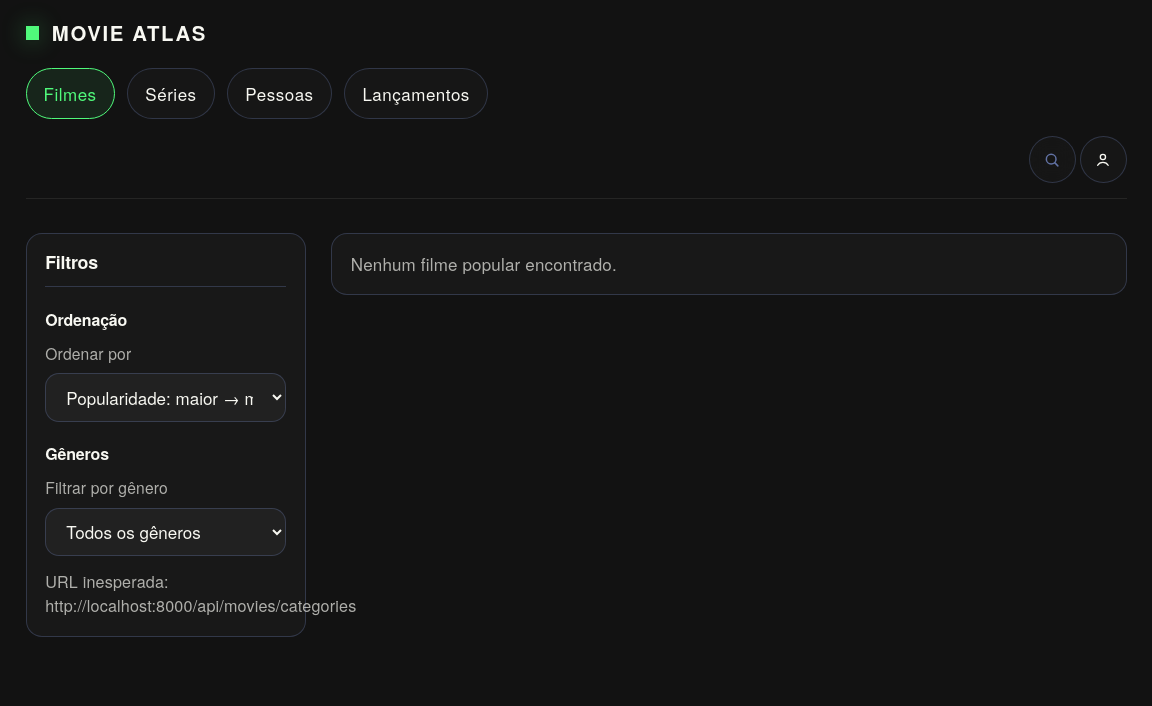
Auth and favorites flow › creates an account from the auth modal and logs the user in automatically
This screenshot has width=1152, height=706.
Click the button named "entrar ou criar conta" at (1103,160), box [1080, 136, 1127, 183]
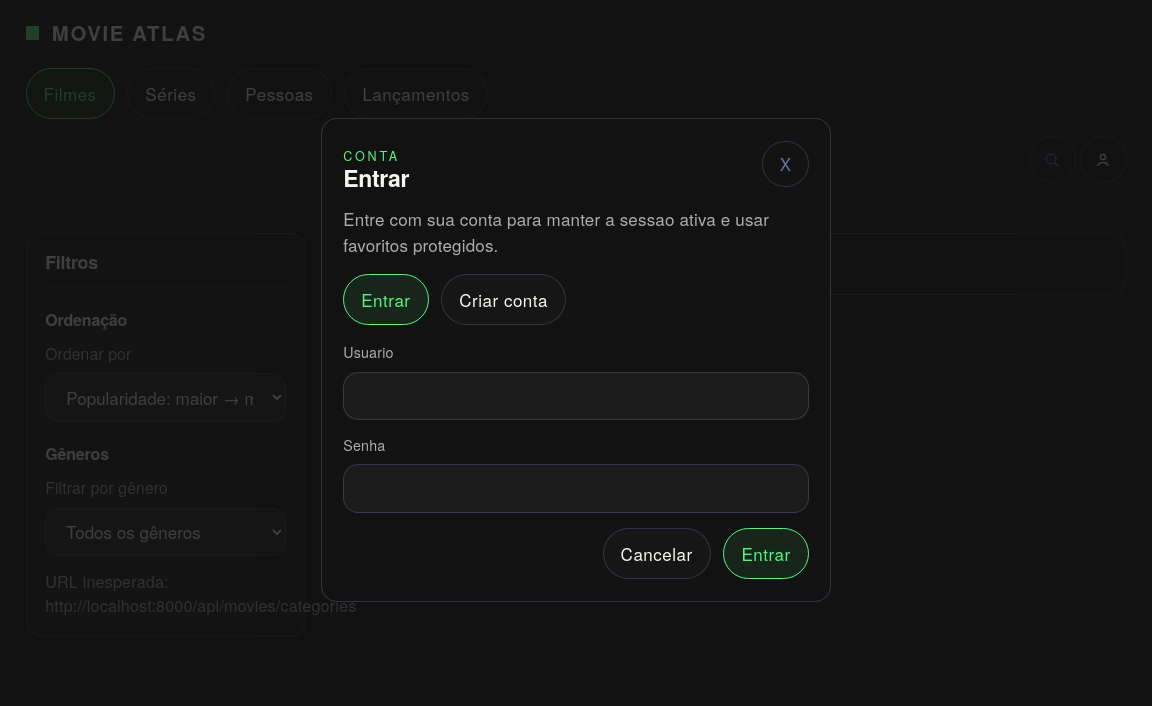
Click the tab "Criar conta" at (504,300), box [441, 274, 566, 326]
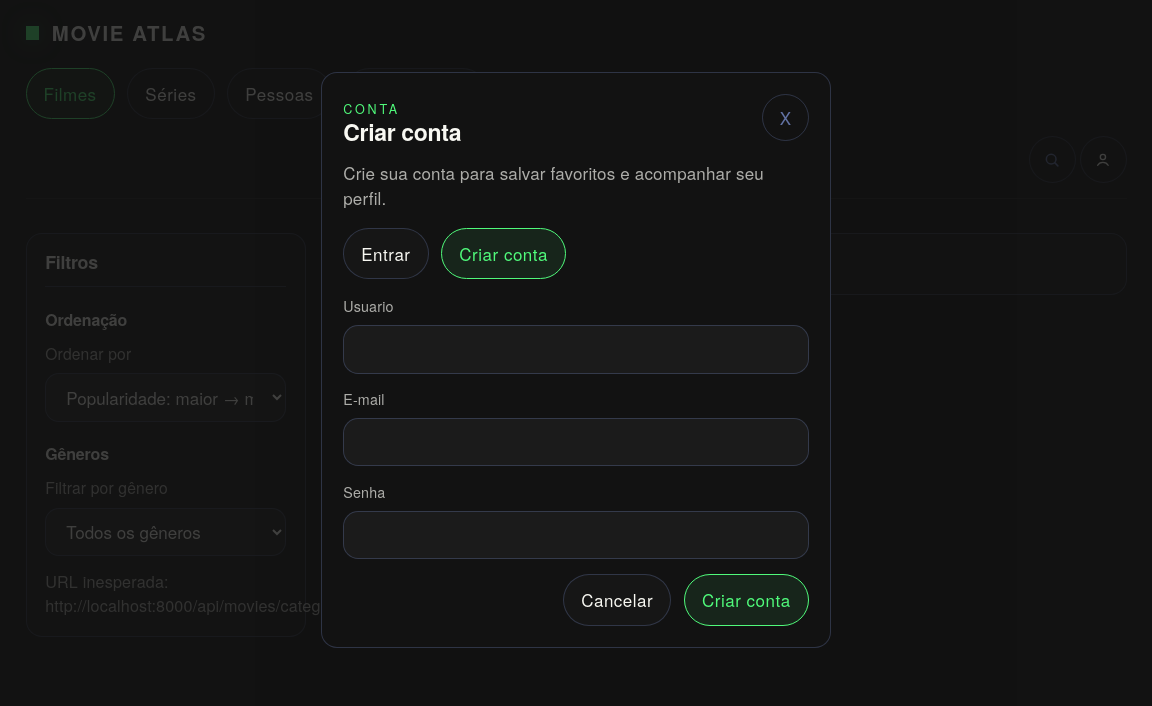
Type "newuser" into the field labelled "Usuario" at (576,349), box [343, 325, 809, 374]
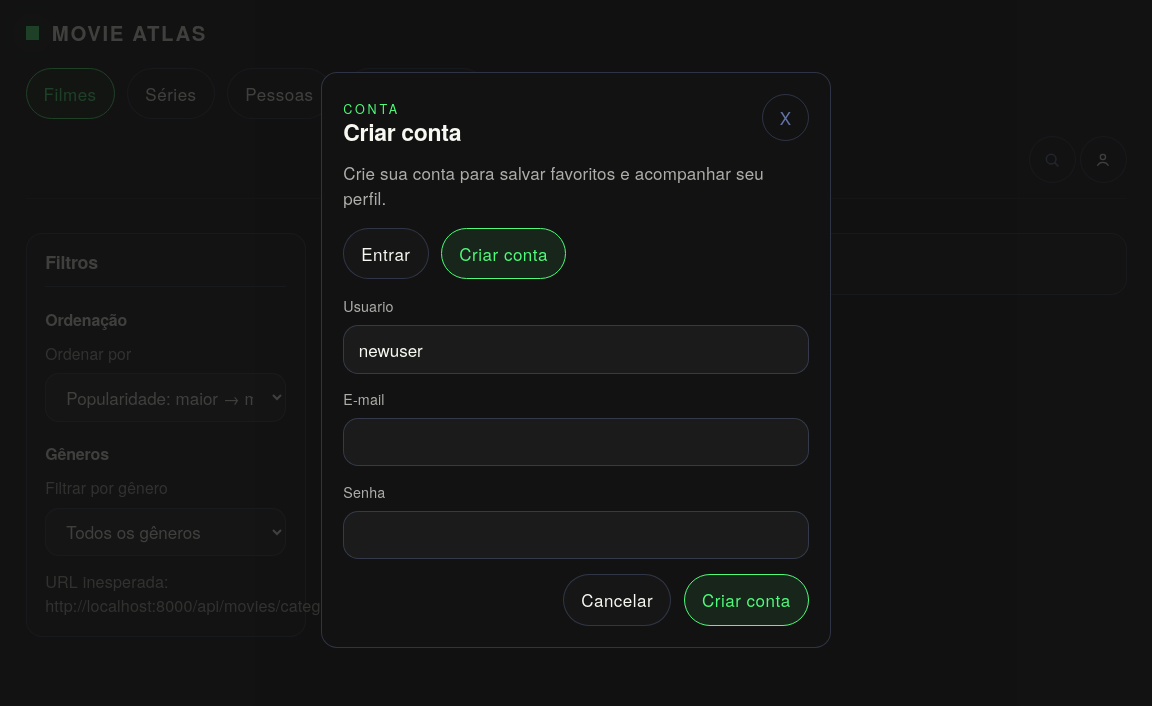
Type "newuser@example.com" into the field labelled "E-mail" at (576,442), box [343, 418, 809, 466]
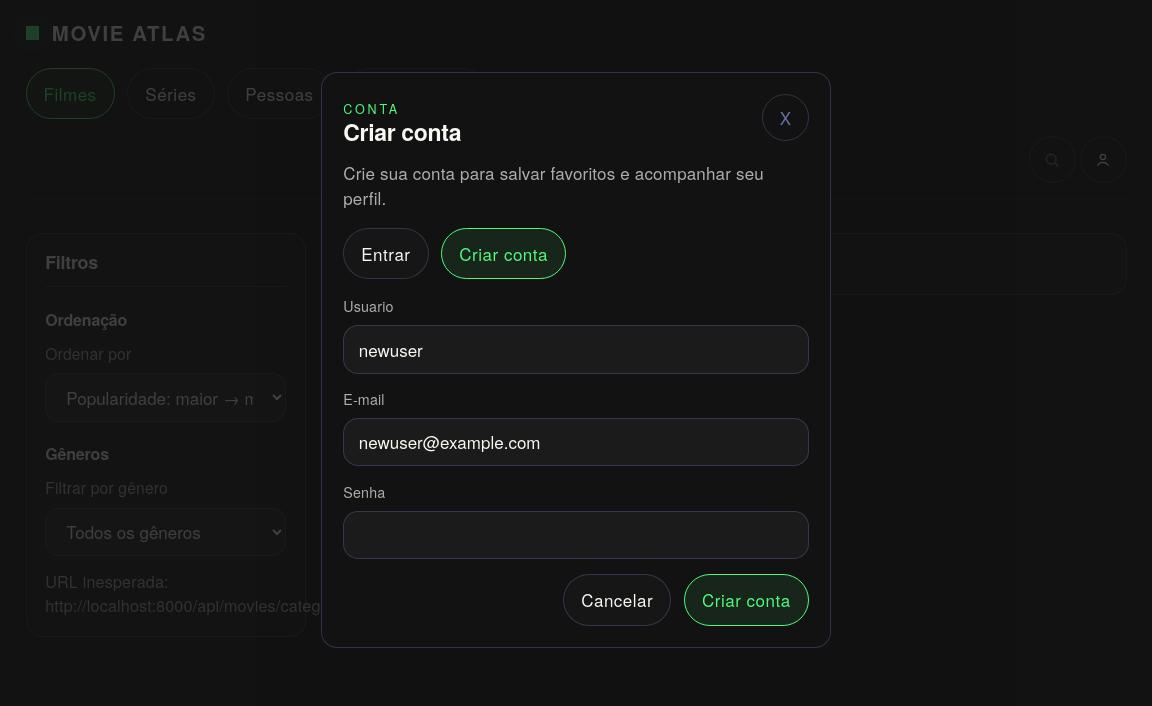
Type "strong-pass-123" into the password field labelled "Senha" at (576,535), box [343, 511, 809, 559]
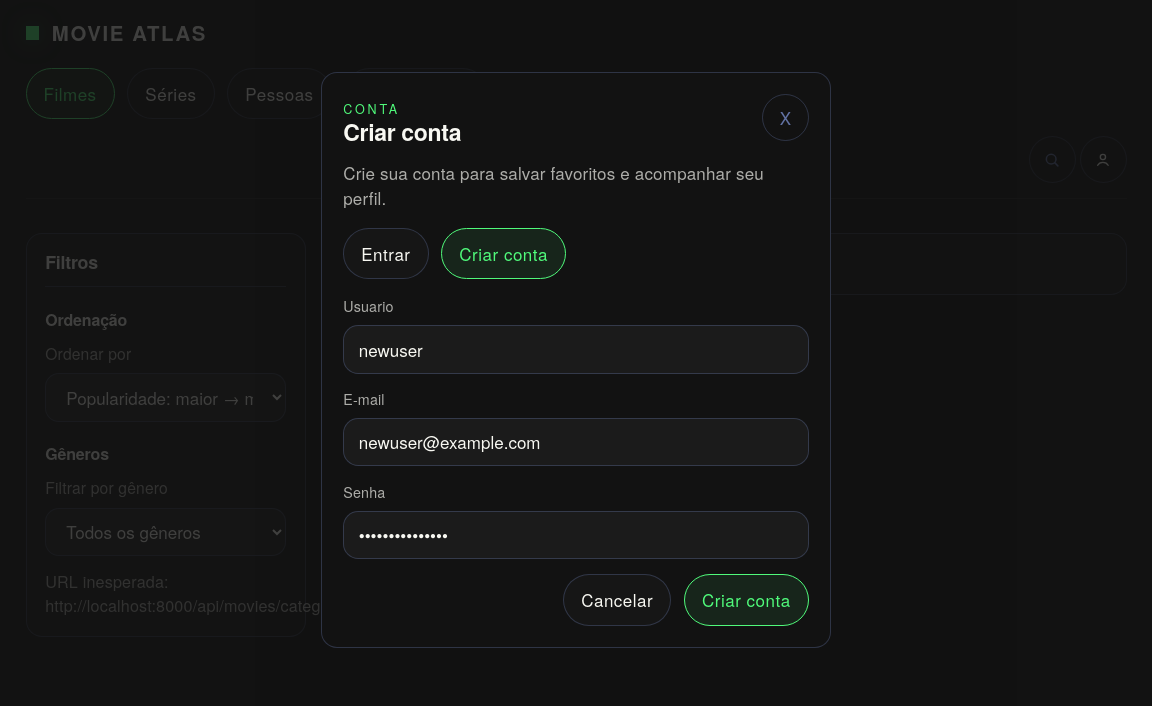
Click the button "Criar conta" at (746,600), box [684, 574, 809, 626]
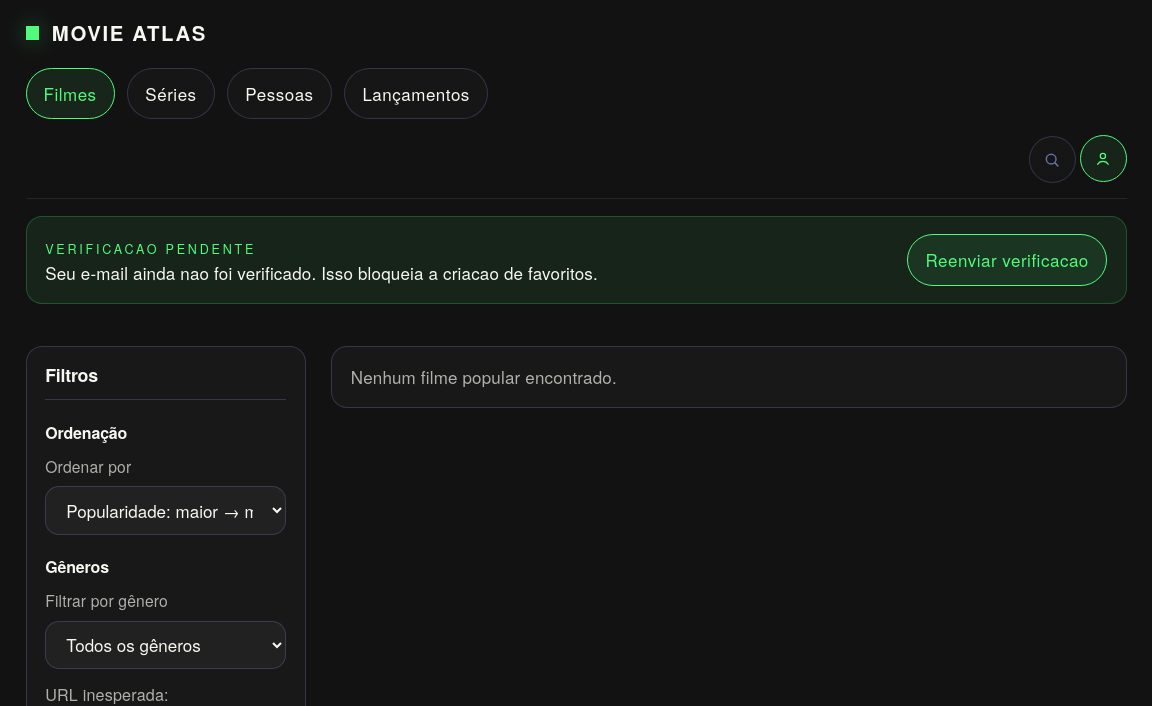
Now the text "Seu e-mail ainda nao foi verificado" is shown, box [45, 260, 598, 285]
